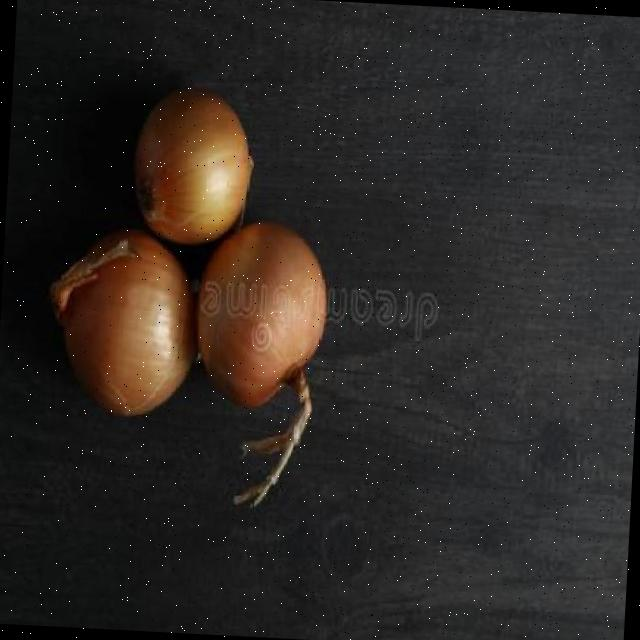Onion: (48, 226, 194, 414), (195, 219, 327, 405), (131, 85, 253, 244)
